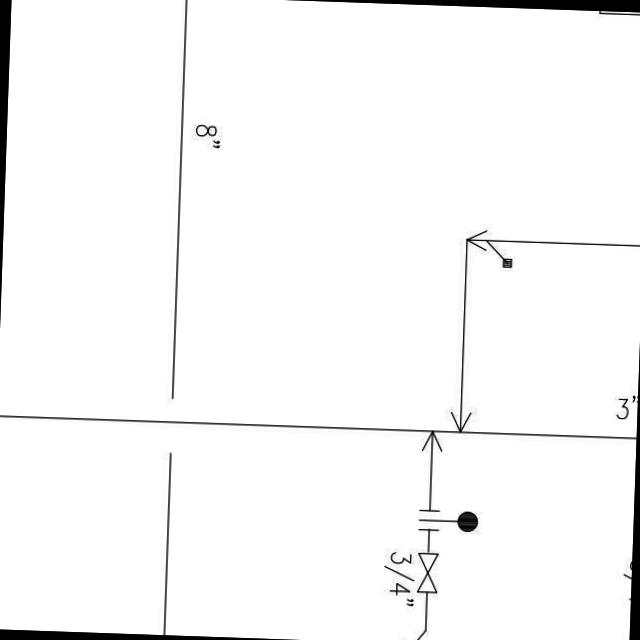RPV: (412, 542, 443, 598)
